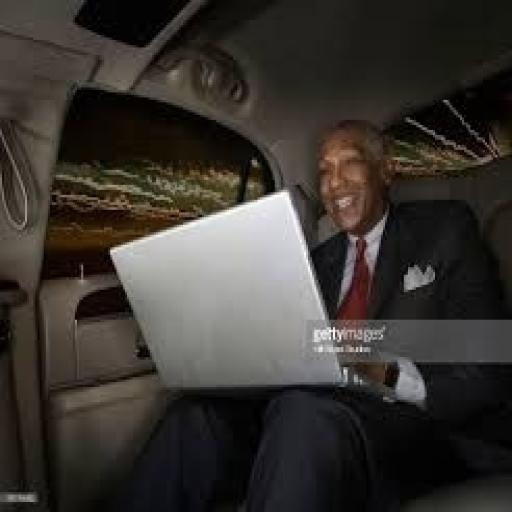using_laptop: (58, 157, 482, 438)
